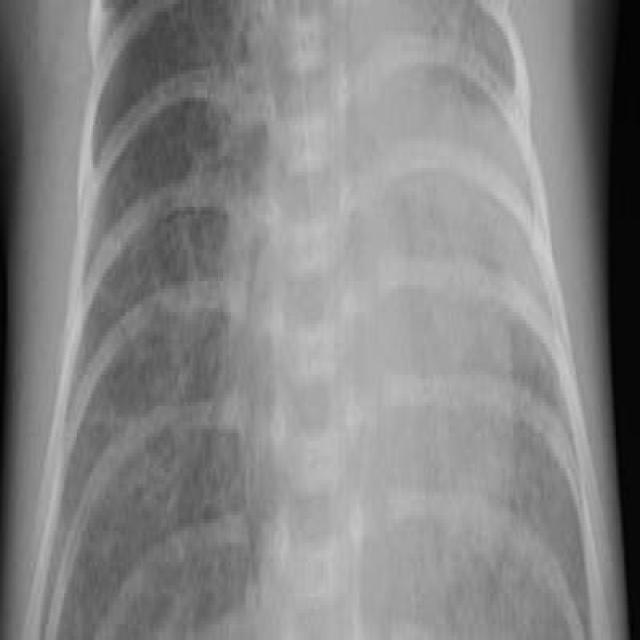low-pneumonia: (438, 1, 564, 406), (190, 12, 269, 524)
